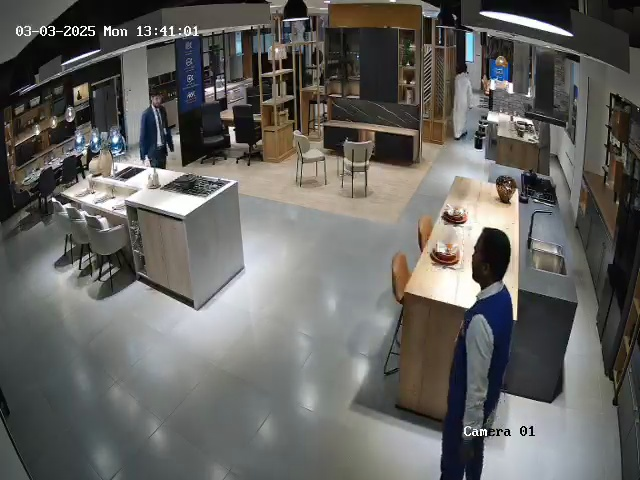employee: (439, 226, 514, 480), (139, 93, 175, 170)
male: (452, 63, 473, 141)
